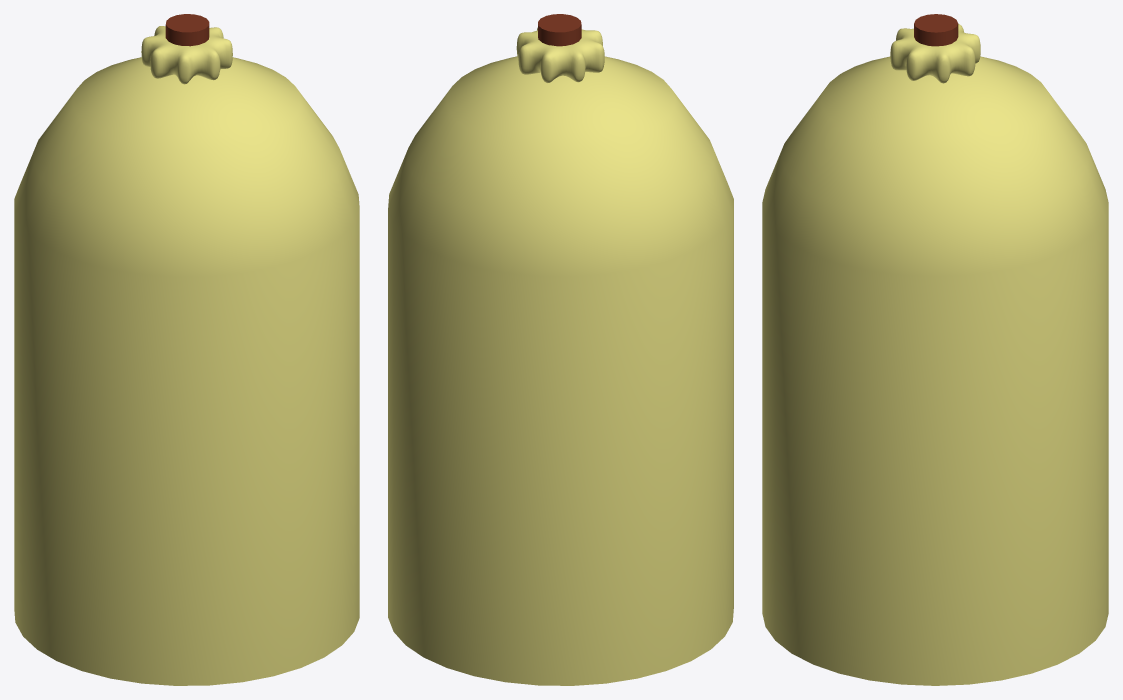
The model's file is BotellaRedonda.fbx.
The picture shows the model from 3 angles, left to right: view 1: azimuth 30°, elevation 25°; view 2: azimuth 150°, elevation 25°; view 3: azimuth 270°, elevation 25°; orthographic projection.
Parts seen in each view (by area): view 1: Cylinder, Cylinder.027, Cylinder.028; view 2: Cylinder, Cylinder.027, Cylinder.028; view 3: Cylinder, Cylinder.027, Cylinder.028.
Part boxes in pixels (x1,y1,x2,y2): Cylinder: (14,57,359,685); Cylinder.027: (141,26,232,84); Cylinder.028: (165,14,209,46); Cylinder: (388,56,733,685); Cylinder.027: (516,27,604,83); Cylinder.028: (538,14,581,46); Cylinder: (762,56,1108,685); Cylinder.027: (890,24,980,83); Cylinder.028: (914,14,958,46).
Bounding box in the file's own units: 68.06 × 128 × 68.06.
